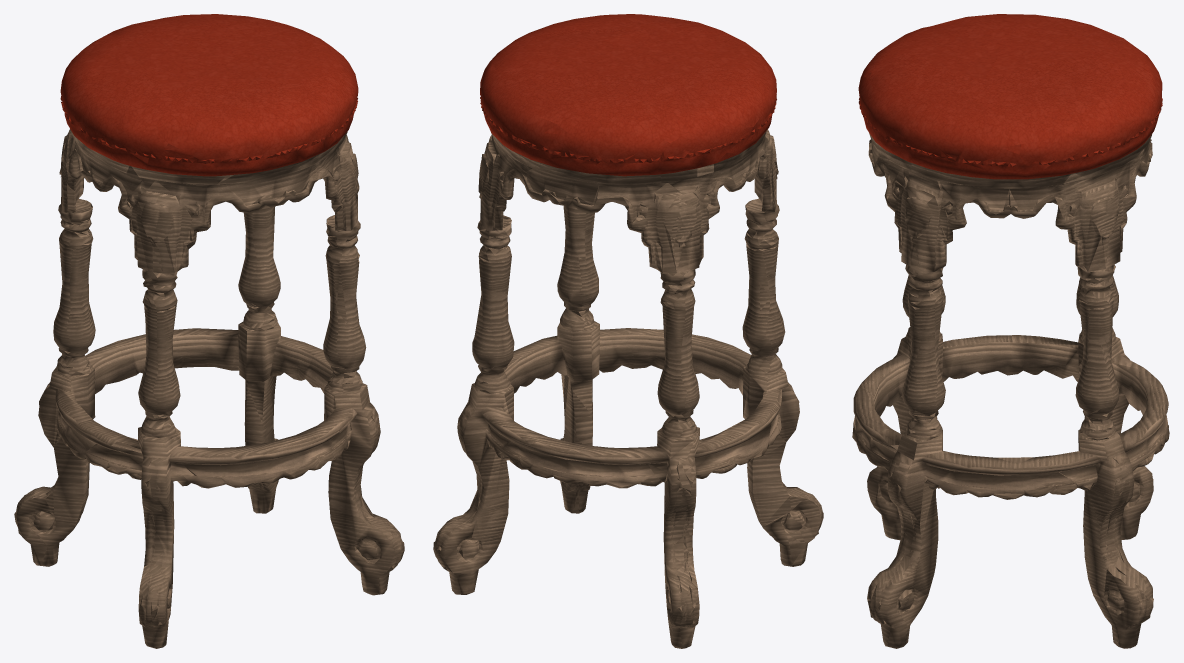
File: sgabello.glb
3 views of the same model, side by side, from view 1: azimuth 30°, elevation 25°; view 2: azimuth 150°, elevation 25°; view 3: azimuth 270°, elevation 25° (orthographic). The views are drawn at different scales.
Visible parts, largest first — view 1: Mesh_0; view 2: Mesh_0; view 3: Mesh_0.
Part boxes in pixels (x1,y1,x2,y2): Mesh_0: (14, 14, 404, 648); Mesh_0: (433, 14, 823, 648); Mesh_0: (852, 14, 1169, 648).
Size of the model in its own units: 0.4069 by 0.75 by 0.4065.
Materials: 2 (2 with a texture image).
